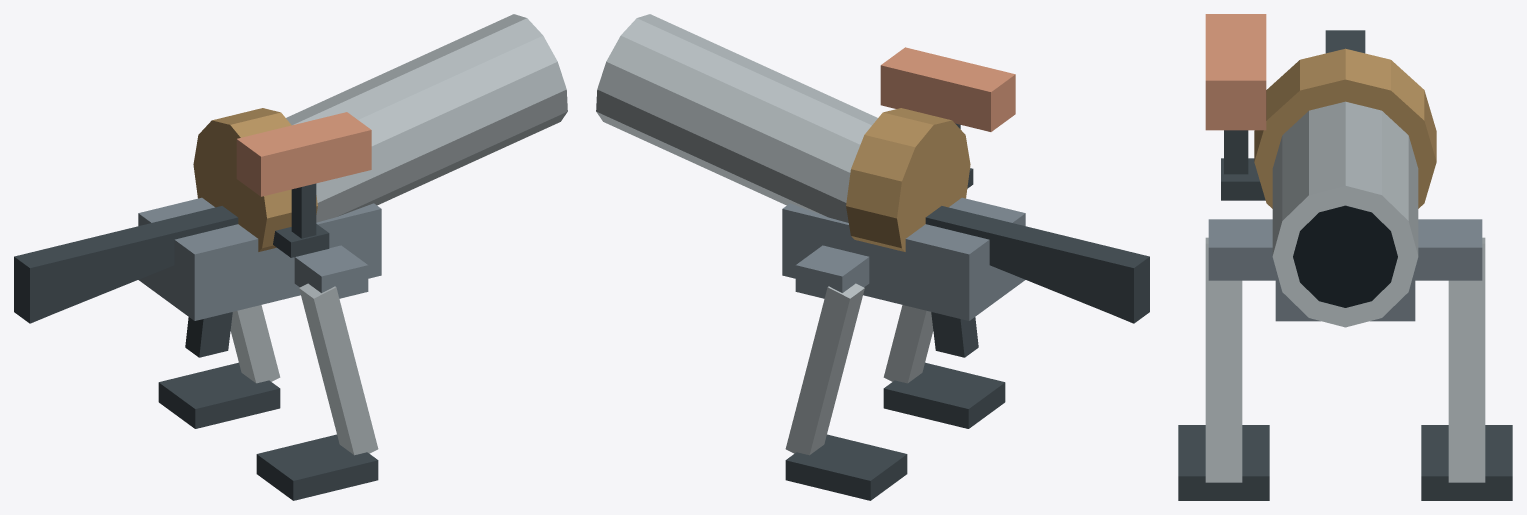
Rendered from w24-cathedral-static.glb.
3 views of the same model, side by side, from view 1: azimuth 30°, elevation 25°; view 2: azimuth 150°, elevation 25°; view 3: azimuth 270°, elevation 25° (orthographic). The views are drawn at different scales.
Parts seen in each view (by area): view 1: w24-cathedral__barrel.001, w24-cathedral__cradle.001, w24-cathedral__stock.001, w24-cathedral__rangefinder.001, w24-cathedral__breech.001, w24-cathedral__brace_leg_-0.001, w24-cathedral__brace_foot_-0.001, w24-cathedral__brace_foot_0.001, w24-cathedral__brace_crossbar.001, w24-cathedral__brace_leg_0.001, w24-cathedral__grip.001, w24-cathedral__rangefinder_post.001 (+1 smaller); view 2: w24-cathedral__barrel.001, w24-cathedral__cradle.001, w24-cathedral__breech.001, w24-cathedral__stock.001, w24-cathedral__rangefinder.001, w24-cathedral__brace_leg_0.001, w24-cathedral__brace_foot_-0.001, w24-cathedral__brace_foot_0.001, w24-cathedral__brace_crossbar.001, w24-cathedral__brace_leg_-0.001, w24-cathedral__grip.001; view 3: w24-cathedral__barrel.001, w24-cathedral__breech.001, w24-cathedral__barrel_bore.001, w24-cathedral__brace_crossbar.001, w24-cathedral__brace_leg_-0.001, w24-cathedral__brace_leg_0.001, w24-cathedral__rangefinder.001, w24-cathedral__brace_foot_-0.001, w24-cathedral__brace_foot_0.001, w24-cathedral__cradle.001, w24-cathedral__rangefinder_bridge.001, w24-cathedral__rangefinder_post.001 (+1 smaller).
Boxes of the visible parts, box(x1,y1,x2,y2) form: w24-cathedral__barrel.001: box(286, 14, 567, 222); w24-cathedral__cradle.001: box(138, 197, 381, 320); w24-cathedral__stock.001: box(14, 206, 238, 323); w24-cathedral__rangefinder.001: box(236, 112, 371, 196); w24-cathedral__breech.001: box(193, 108, 317, 251); w24-cathedral__brace_leg_-0.001: box(299, 283, 378, 455); w24-cathedral__brace_foot_-0.001: box(256, 434, 378, 500); w24-cathedral__brace_foot_0.001: box(158, 362, 280, 428); w24-cathedral__brace_crossbar.001: box(294, 245, 368, 298); w24-cathedral__brace_leg_0.001: box(230, 305, 280, 383); w24-cathedral__grip.001: box(185, 312, 232, 357); w24-cathedral__rangefinder_post.001: box(291, 183, 316, 238); w24-cathedral__barrel.001: box(596, 14, 877, 222); w24-cathedral__cradle.001: box(782, 197, 1025, 320); w24-cathedral__breech.001: box(846, 108, 970, 251); w24-cathedral__stock.001: box(925, 206, 1149, 323); w24-cathedral__rangefinder.001: box(880, 47, 1015, 131); w24-cathedral__brace_leg_0.001: box(785, 283, 864, 455); w24-cathedral__brace_foot_-0.001: box(883, 362, 1005, 428); w24-cathedral__brace_foot_0.001: box(785, 434, 907, 500); w24-cathedral__brace_crossbar.001: box(795, 245, 869, 298); w24-cathedral__brace_leg_-0.001: box(883, 305, 933, 383); w24-cathedral__grip.001: box(931, 312, 978, 357); w24-cathedral__barrel.001: box(1272, 101, 1418, 327); w24-cathedral__breech.001: box(1254, 48, 1436, 208); w24-cathedral__barrel_bore.001: box(1293, 205, 1397, 307); w24-cathedral__brace_crossbar.001: box(1208, 219, 1482, 280); w24-cathedral__brace_leg_-0.001: box(1205, 237, 1242, 482); w24-cathedral__brace_leg_0.001: box(1448, 237, 1485, 482); w24-cathedral__rangefinder.001: box(1205, 14, 1266, 130); w24-cathedral__brace_foot_-0.001: box(1178, 425, 1269, 500); w24-cathedral__brace_foot_0.001: box(1421, 425, 1512, 500); w24-cathedral__cradle.001: box(1275, 268, 1415, 321); w24-cathedral__rangefinder_bridge.001: box(1221, 158, 1265, 200); w24-cathedral__rangefinder_post.001: box(1224, 130, 1248, 174).
Size of the model in its own units: 1.24 by 0.8098 by 0.55.
